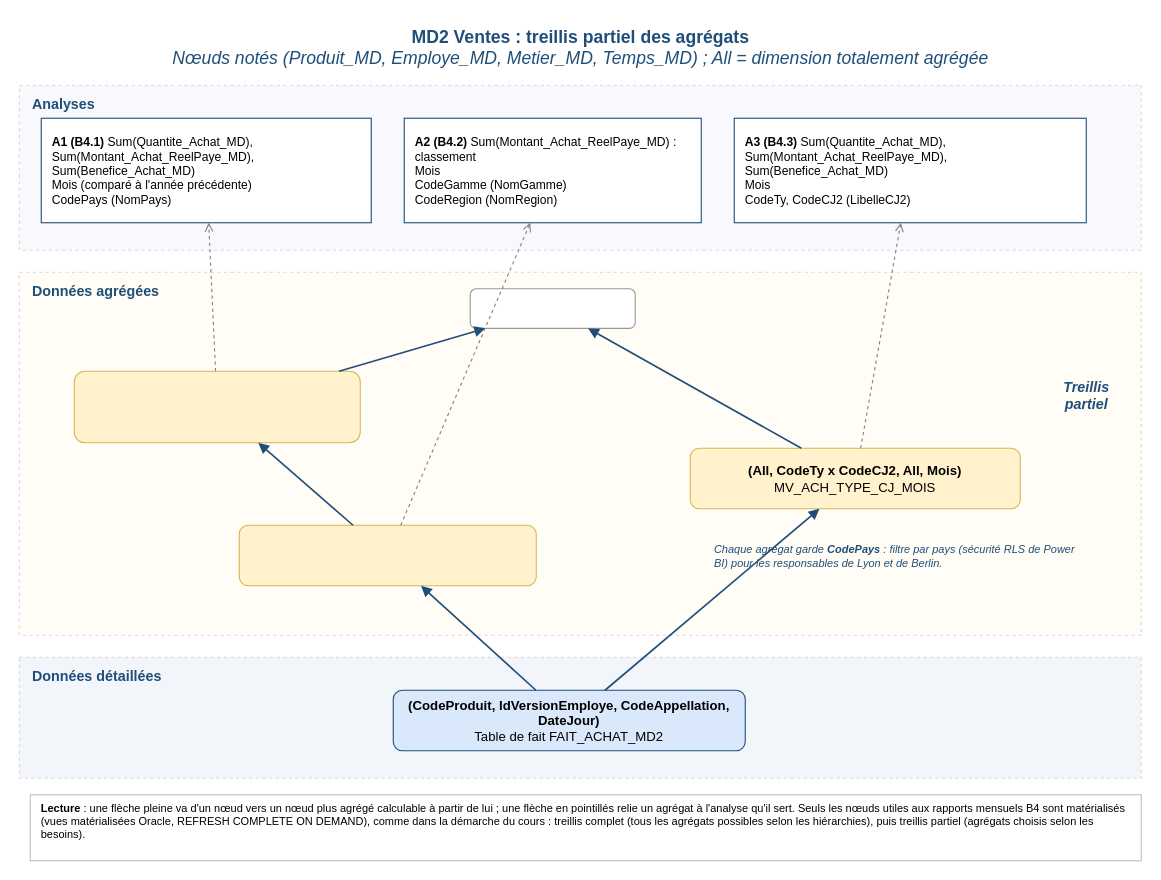
Some shapes in this 1161 by 880 pixel diagram are drawn without their labels. Each missing label, with the centre of its shape:
(All, All, All, All): the point at 552,308
(All, CodePays, All, Mois) MV_ACH_PAYS_MOIS source : MV_ACH_GAM_REG_MOIS: the point at 216,406
(CodeGamme, CodeRegion, All, Mois) MV_ACH_GAM_REG_MOIS: the point at 387,555
